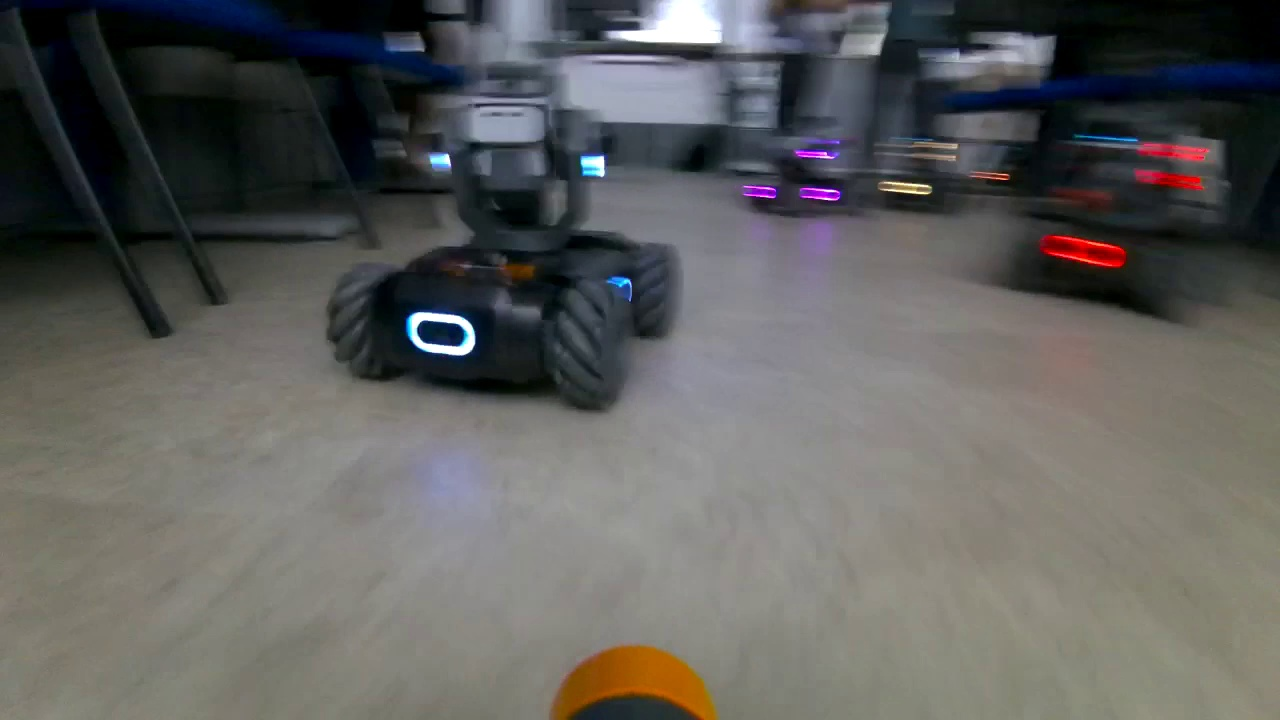robot: (313, 13, 695, 414)
